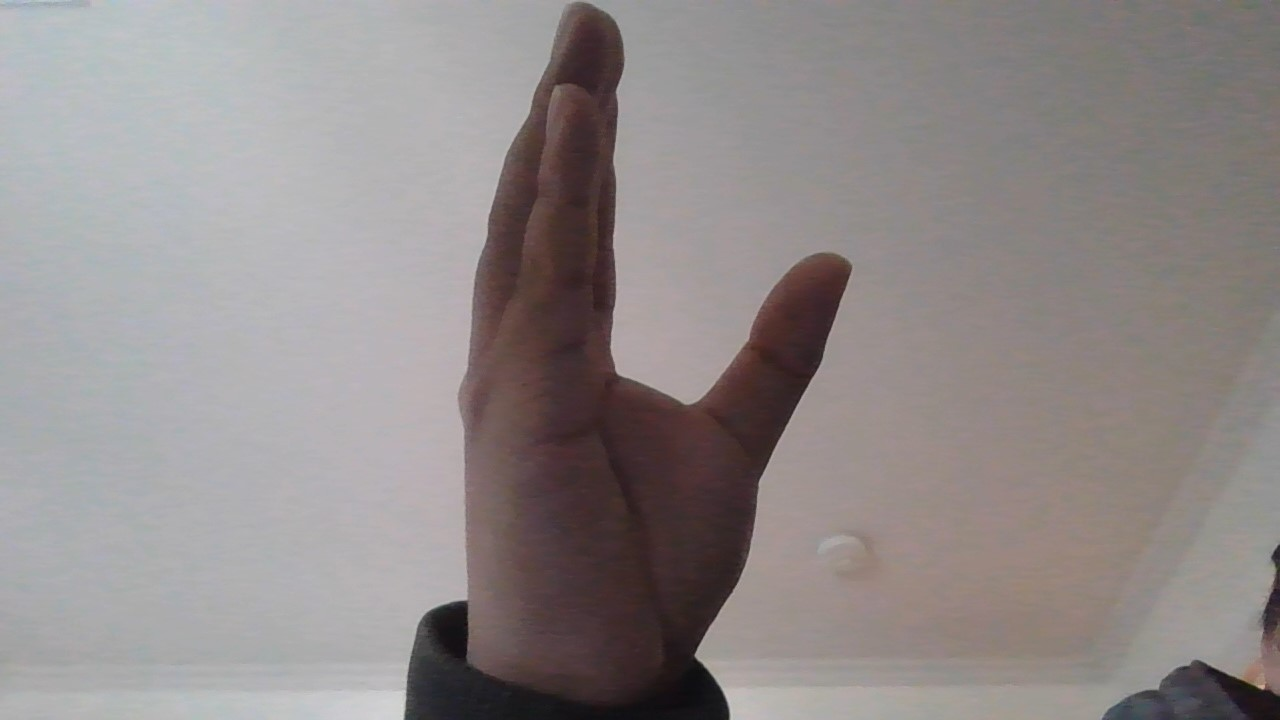j: (413, 1, 861, 720)
